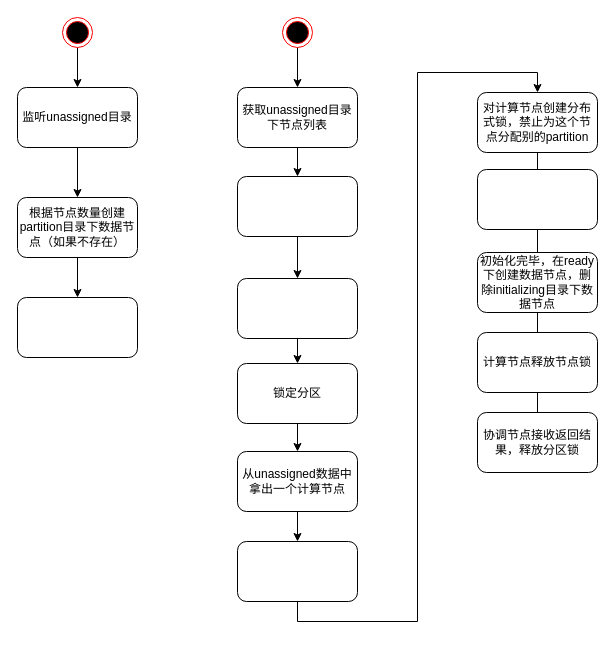
Image size: 615x647. Some labels were removed from this diagram. The shapes that lost their labels are listed below. From the top down, each one's centre as x and y in pixels, then its label:
At pixel 297 206: "遍历每一个节点，获取slave pod的信息".
At pixel 537 199: "计算节点在分区initializing目录下创建数据节点".
At pixel 77 327: "监听partition目录下各个数据节点".
At pixel 297 308: "计算需要分配计算节点的分区".
At pixel 297 571: "发送请求到计算节点".
